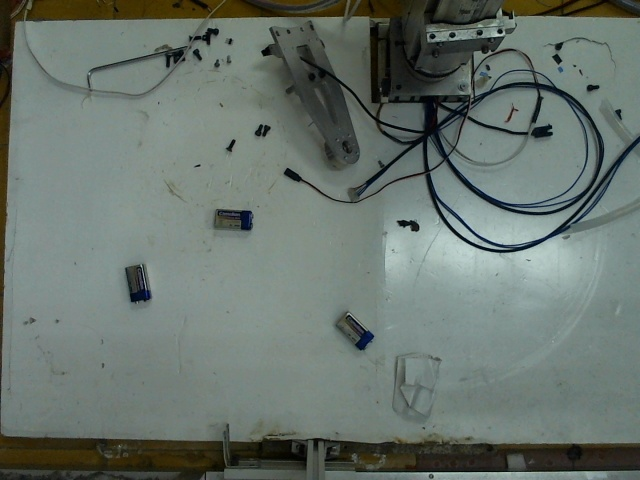battery: (332, 309, 372, 349), (118, 261, 154, 303), (211, 203, 255, 233)
